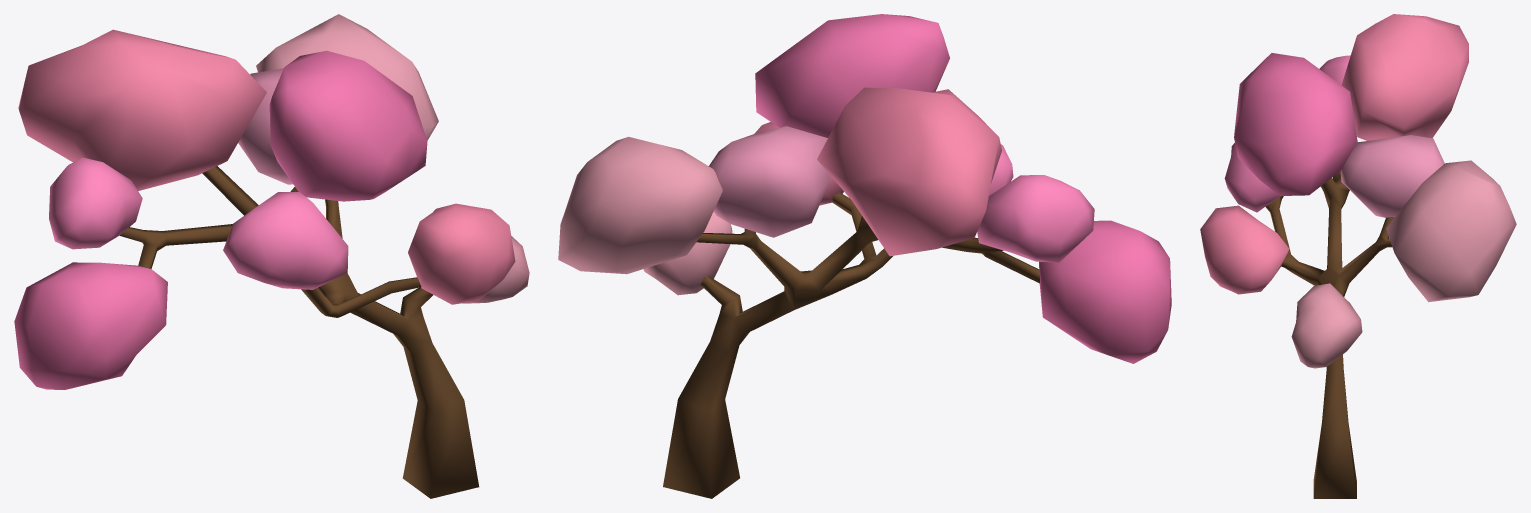
Rendered from Sakura_3.fbx.
The picture shows the model from 3 angles, left to right: view 1: azimuth 30°, elevation 25°; view 2: azimuth 150°, elevation 25°; view 3: azimuth 270°, elevation 25°; orthographic projection. The views are drawn at different scales.
Visible parts, largest first — view 1: Tree3_Leave4, Tree3_Leave5, Cube_145, Tree3_Leave2_003, Tree3_Leave1_006, Tree3_Leave3_004, Tree3_Leave1_007, Tree3_Leave2, Tree3_Leave3, Tree3_Leave1; view 2: Tree3_Leave4, Cube_145, Tree3_Leave2, Tree3_Leave5, Tree3_Leave2_003, Tree3_Leave3, Tree3_Leave1_007, Tree3_Leave1; view 3: Tree3_Leave5, Tree3_Leave4, Tree3_Leave2, Cube_145, Tree3_Leave3, Tree3_Leave3_004, Tree3_Leave1, Tree3_Leave1_006, Tree3_Leave1_007.
Boxes of the visible parts, bbox=[...] form: Tree3_Leave4: bbox=[18, 29, 266, 190]; Tree3_Leave5: bbox=[269, 50, 427, 201]; Cube_145: bbox=[119, 166, 479, 498]; Tree3_Leave2_003: bbox=[14, 262, 167, 389]; Tree3_Leave1_006: bbox=[223, 192, 348, 289]; Tree3_Leave3_004: bbox=[408, 203, 515, 304]; Tree3_Leave1_007: bbox=[49, 157, 142, 249]; Tree3_Leave2: bbox=[256, 14, 438, 140]; Tree3_Leave3: bbox=[238, 68, 292, 184]; Tree3_Leave1: bbox=[462, 236, 529, 303]; Tree3_Leave4: bbox=[817, 87, 1001, 256]; Cube_145: bbox=[663, 192, 1039, 498]; Tree3_Leave2: bbox=[558, 136, 722, 274]; Tree3_Leave5: bbox=[755, 14, 949, 137]; Tree3_Leave2_003: bbox=[1039, 220, 1171, 363]; Tree3_Leave3: bbox=[709, 126, 830, 237]; Tree3_Leave1_007: bbox=[977, 175, 1094, 262]; Tree3_Leave1: bbox=[643, 211, 732, 295]; Tree3_Leave5: bbox=[1234, 53, 1357, 195]; Tree3_Leave4: bbox=[1341, 14, 1468, 140]; Tree3_Leave2: bbox=[1386, 160, 1516, 302]; Cube_145: bbox=[1265, 171, 1394, 498]; Tree3_Leave3: bbox=[1340, 135, 1444, 217]; Tree3_Leave3_004: bbox=[1200, 205, 1289, 294]; Tree3_Leave1: bbox=[1291, 283, 1362, 368]; Tree3_Leave1_006: bbox=[1224, 143, 1279, 212]; Tree3_Leave1_007: bbox=[1319, 55, 1350, 84].
Size of the model in its own units: 619 by 552 by 428.
